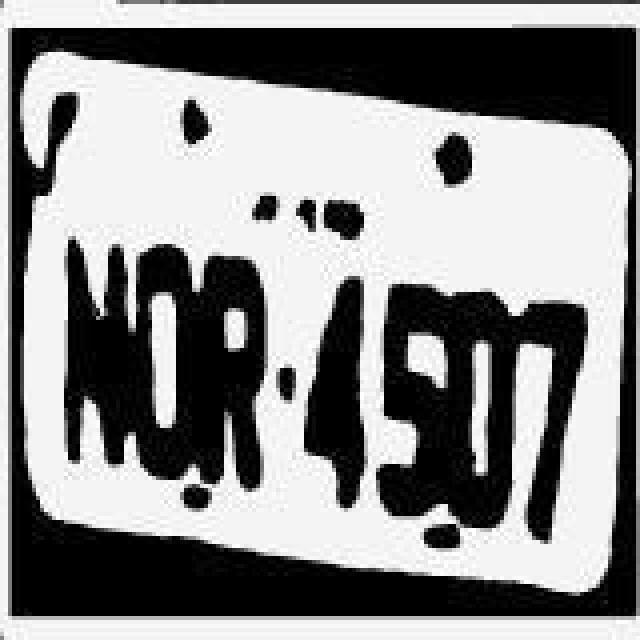4: (298, 246, 374, 522)
5: (370, 278, 438, 522)
7: (520, 266, 600, 550)
N: (50, 218, 126, 486)
O: (444, 278, 516, 538), (124, 238, 196, 482)
R: (198, 250, 274, 494)
